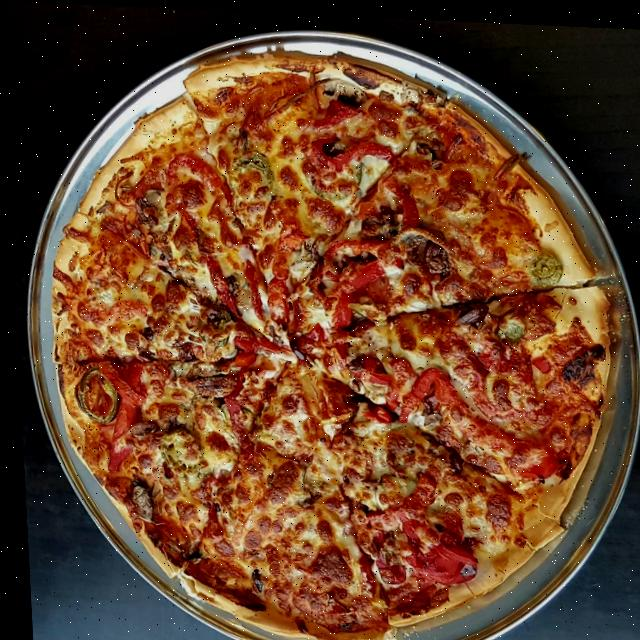pizza: (34, 33, 623, 640)
